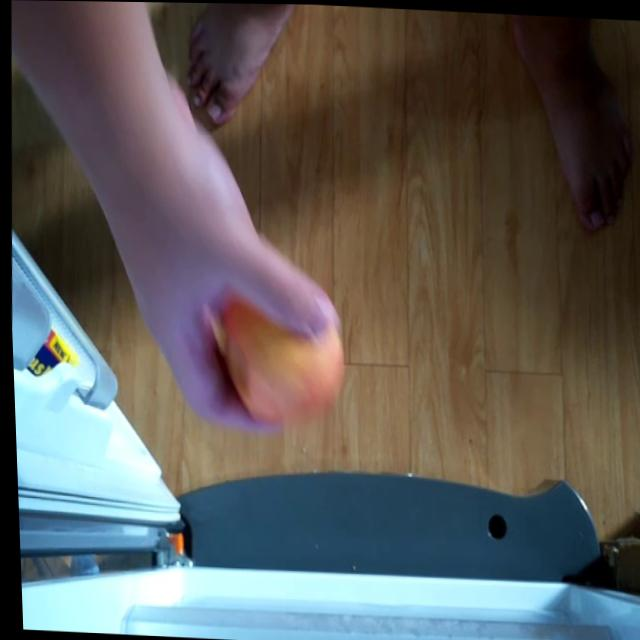apple: (212, 296, 344, 433)
